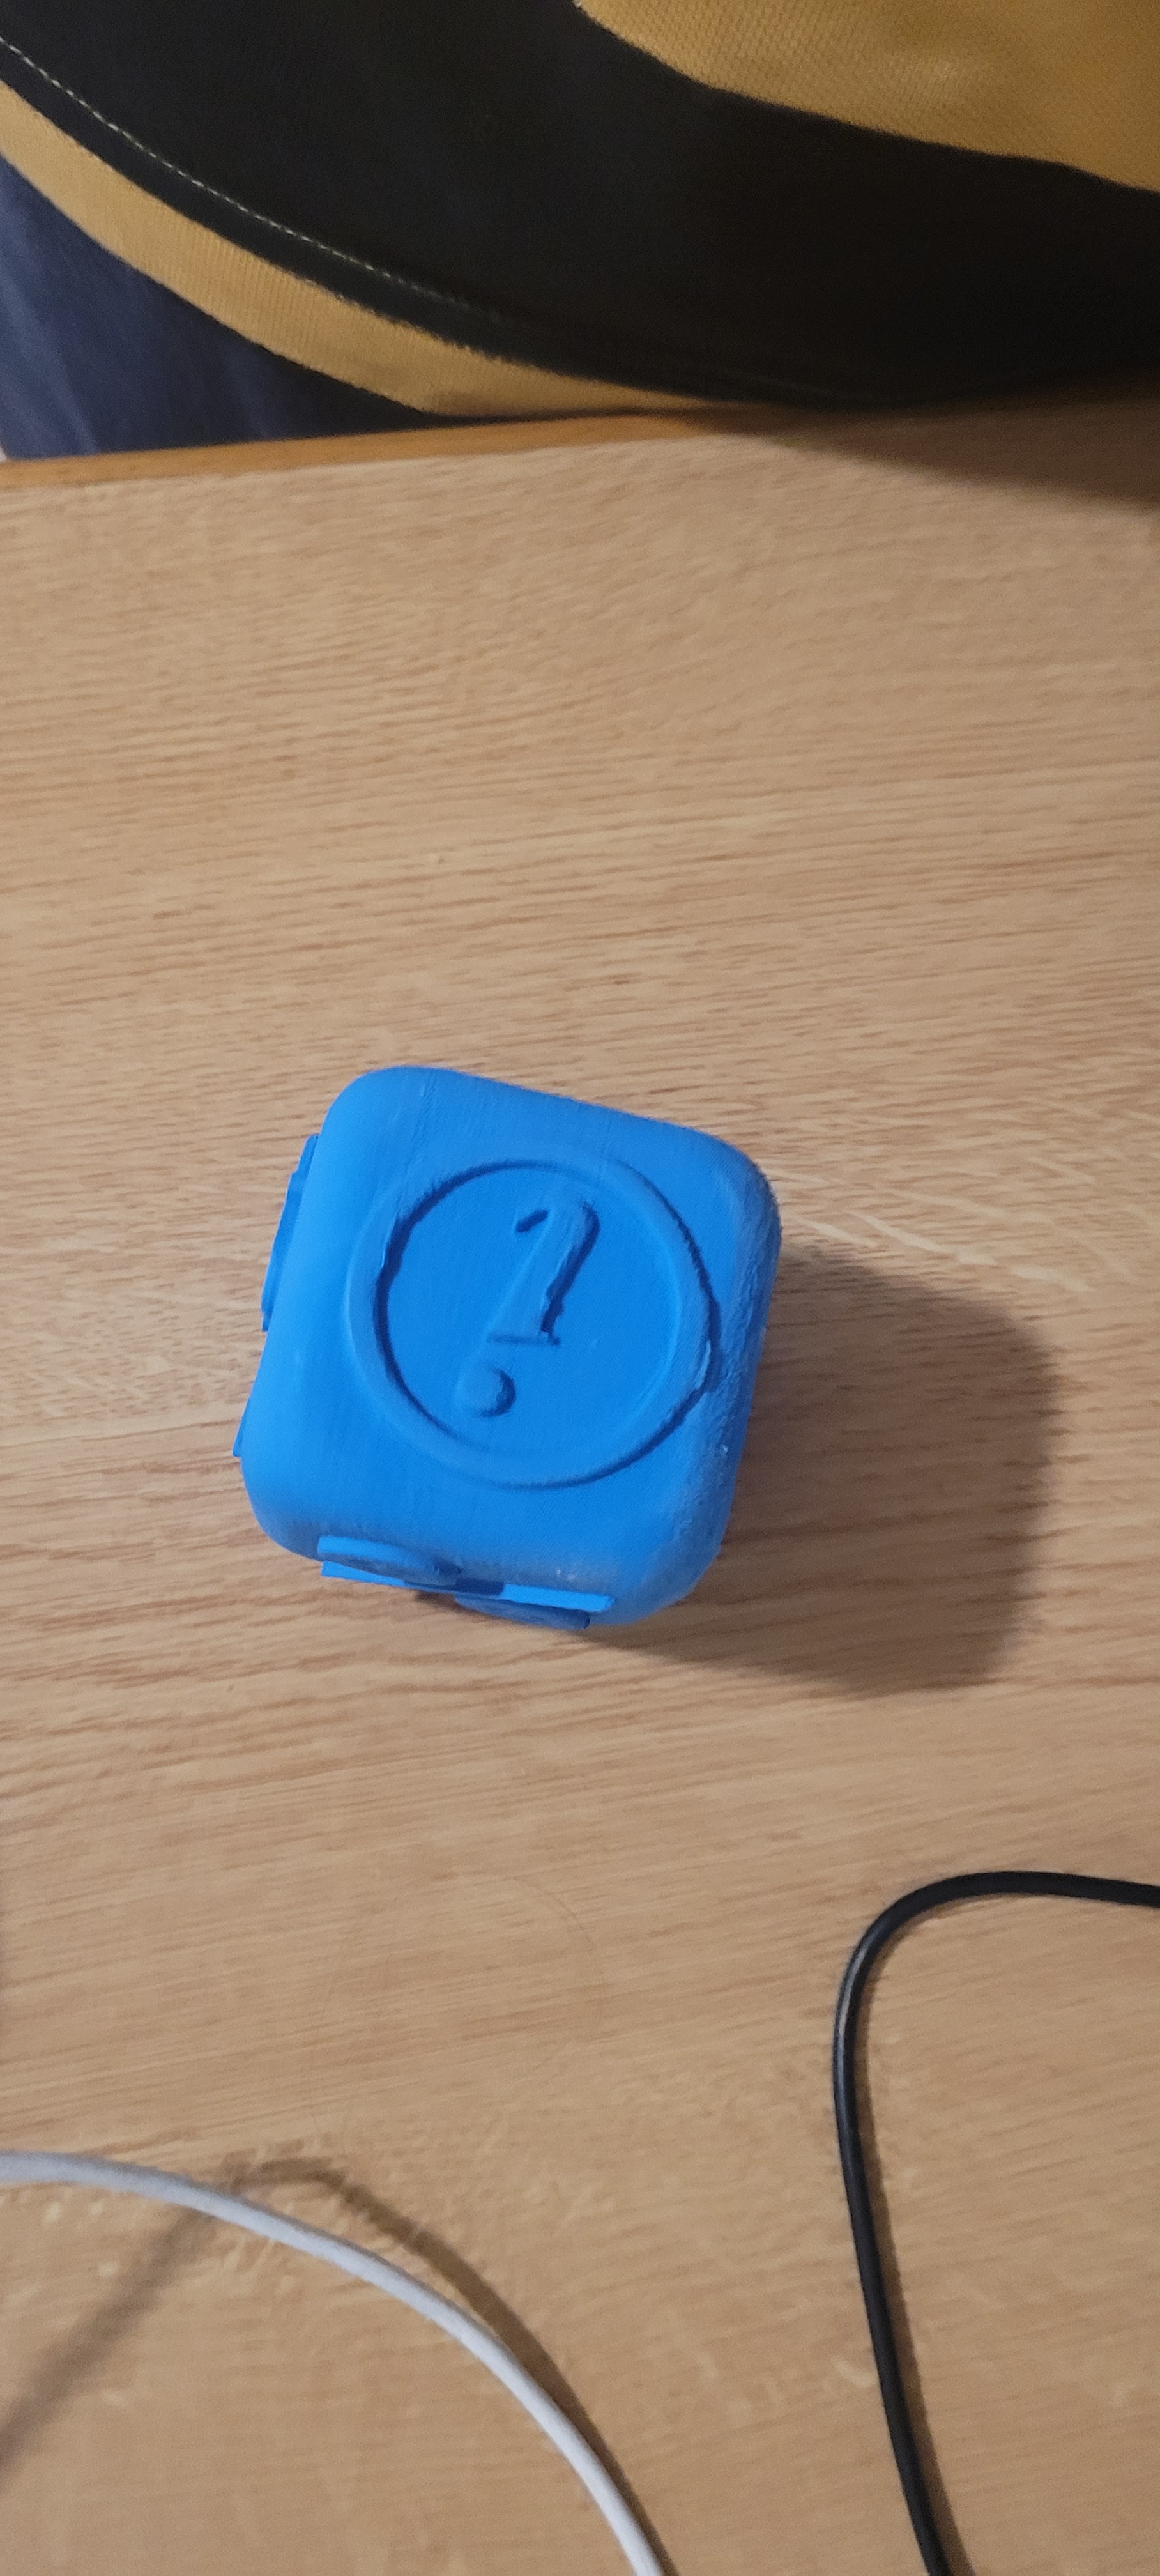Info: (347, 1109, 757, 1539)
